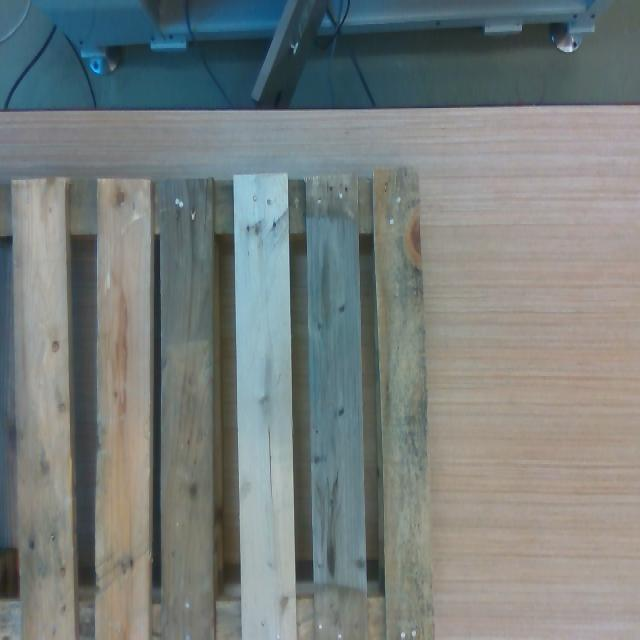pallet: (0, 169, 434, 640)
